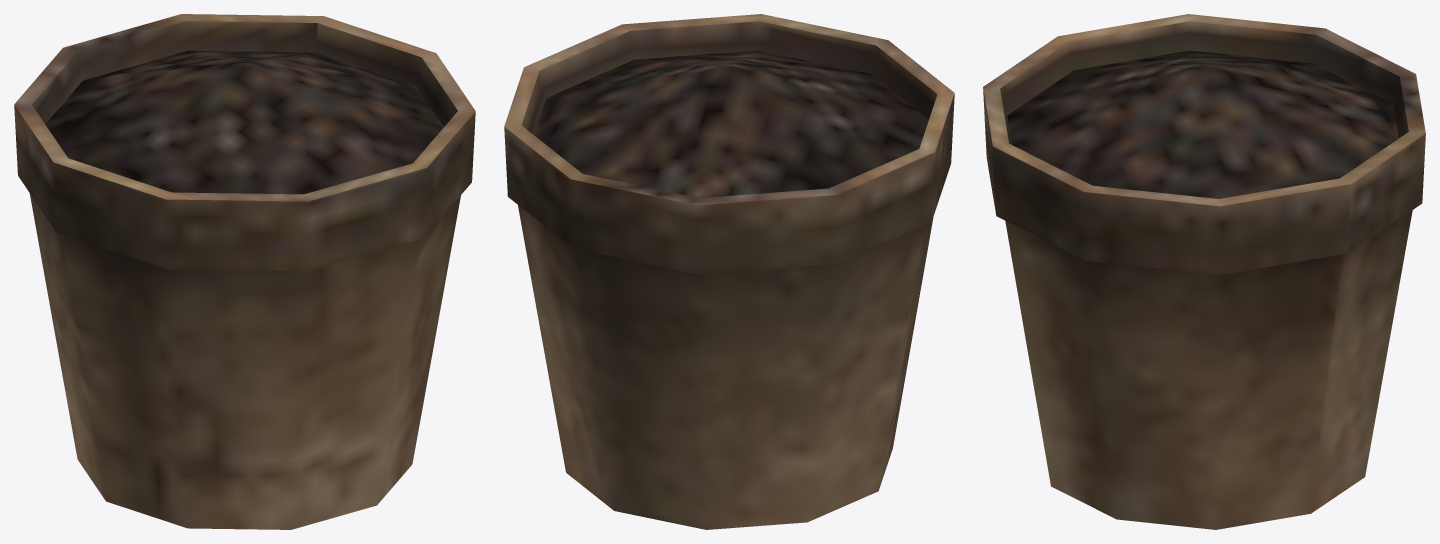
File: FlowerPot.FBX
The picture shows the model from 3 angles, left to right: view 1: azimuth 30°, elevation 25°; view 2: azimuth 150°, elevation 25°; view 3: azimuth 270°, elevation 25°; orthographic projection.
Parts seen in each view (by area): view 1: FlowerPot; view 2: FlowerPot; view 3: FlowerPot.
Boxes of the visible parts, left/top/right/bottom form: FlowerPot: left=14, top=14, right=475, bottom=529; FlowerPot: left=504, top=14, right=954, bottom=529; FlowerPot: left=983, top=14, right=1425, bottom=529.
Size of the model in its own units: 18.98 by 18.05 by 18.46.
